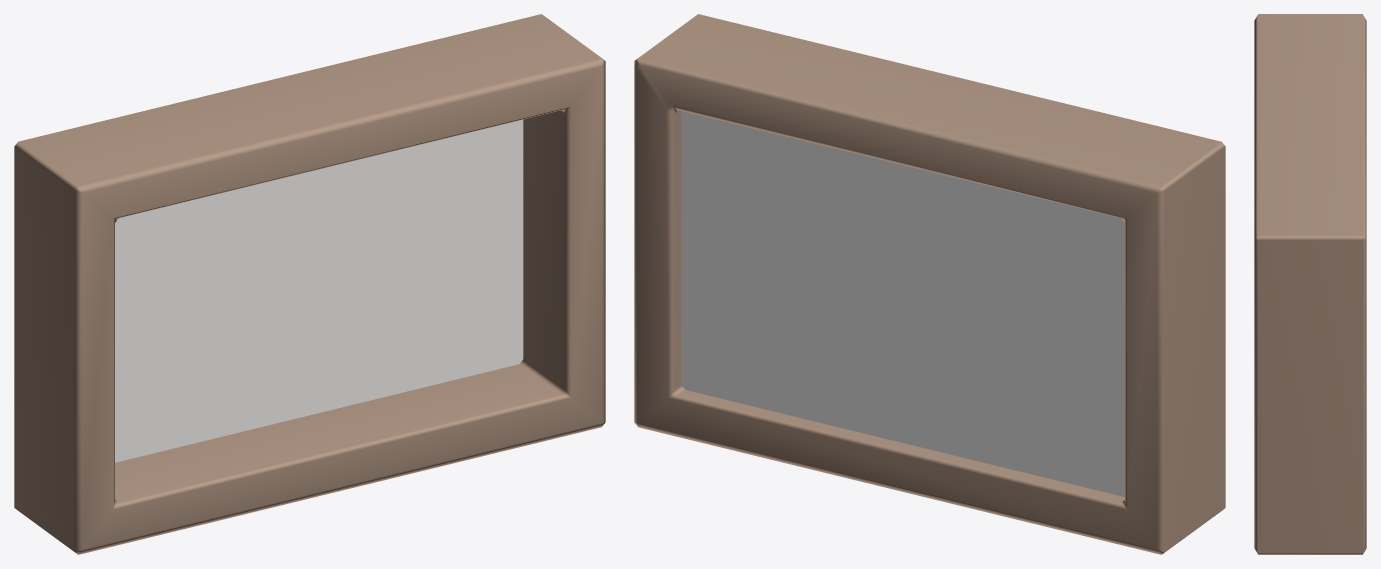
Rendered from Window_4.glb.
The picture shows the model from 3 angles, left to right: view 1: azimuth 30°, elevation 25°; view 2: azimuth 150°, elevation 25°; view 3: azimuth 270°, elevation 25°; orthographic projection. The views are drawn at different scales.
Visible parts, largest first — view 1: Window_4; view 2: Window_4; view 3: Window_4.
Part boxes in pixels (x1=…): Window_4: x1=14, y1=14, x2=605, y2=554; Window_4: x1=634, y1=14, x2=1225, y2=554; Window_4: x1=1254, y1=14, x2=1366, y2=554.
Bounding box in the file's own units: 2.65 × 1.76 × 0.5595.
2 materials, 2 textured.
